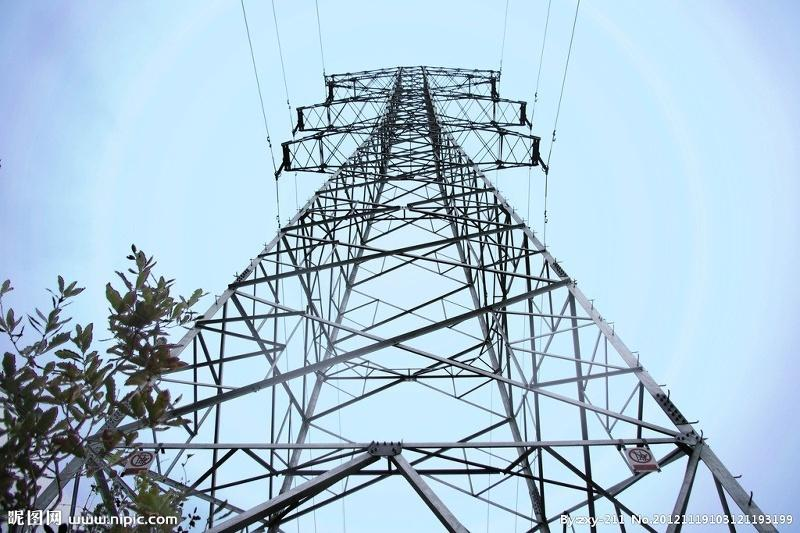power_tower: (86, 43, 775, 526)
